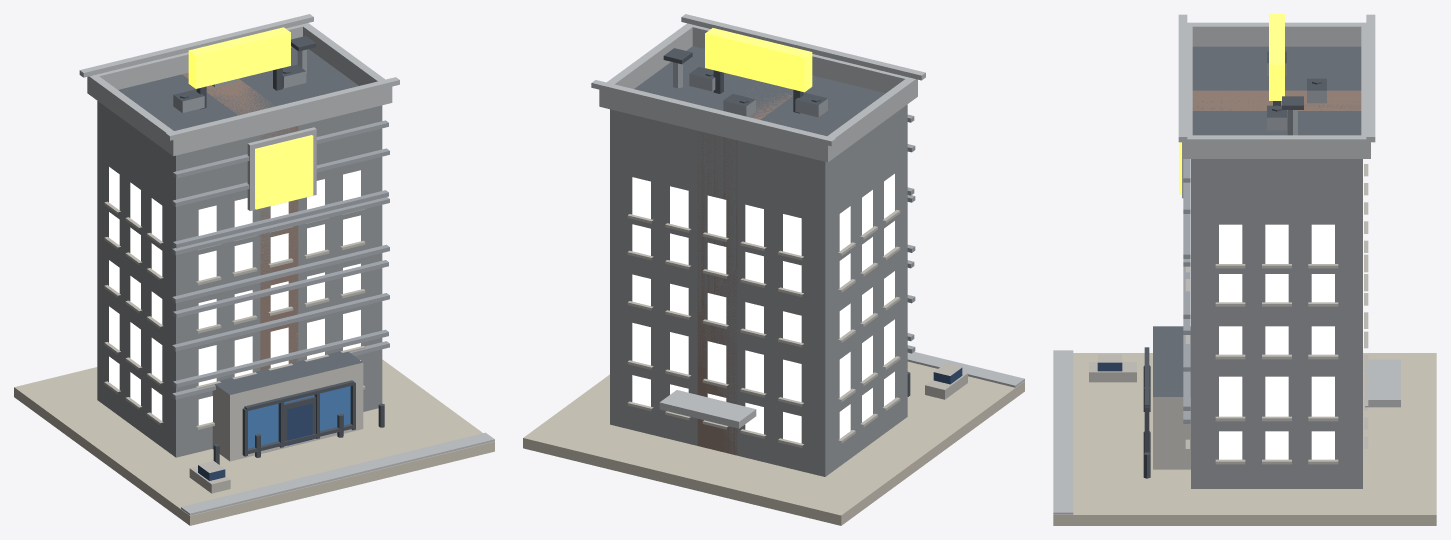
The picture shows the model from 3 angles, left to right: view 1: azimuth 30°, elevation 25°; view 2: azimuth 150°, elevation 25°; view 3: azimuth 270°, elevation 25°; orthographic projection. The views are drawn at different scales.
Visible parts, largest first — view 1: b18_v2; view 2: b18_v2; view 3: b18_v2.
Boxes of the visible parts, box(x1,y1,x2,y2) form: b18_v2: box(14, 14, 494, 525); b18_v2: box(523, 14, 1024, 525); b18_v2: box(1053, 14, 1436, 525).
Size of the model in its own units: 0.96 by 1.12 by 0.96.
